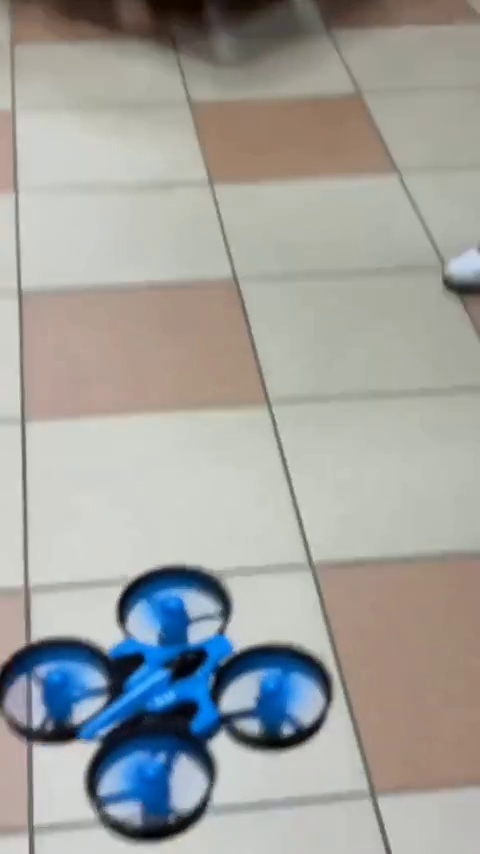drone: (9, 557, 340, 821)
